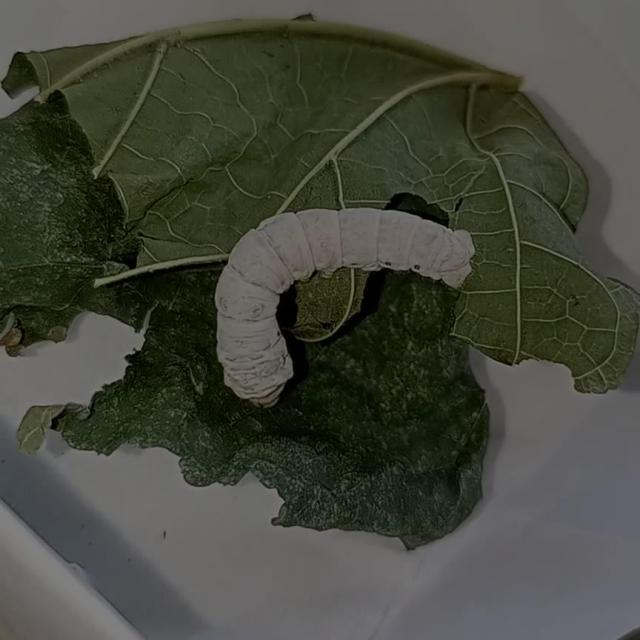Healthy: (198, 190, 480, 412)
